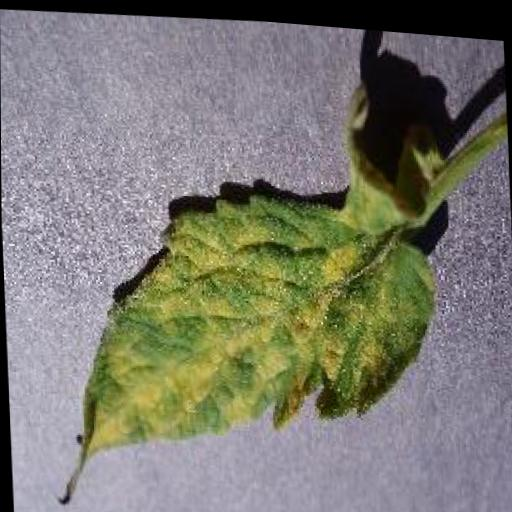Leaf Mold: (39, 58, 440, 512)
